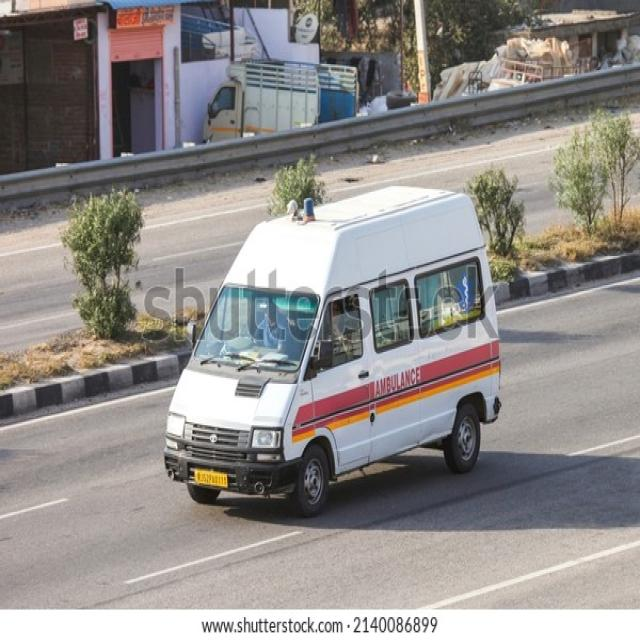ambulance: (164, 182, 502, 518)
